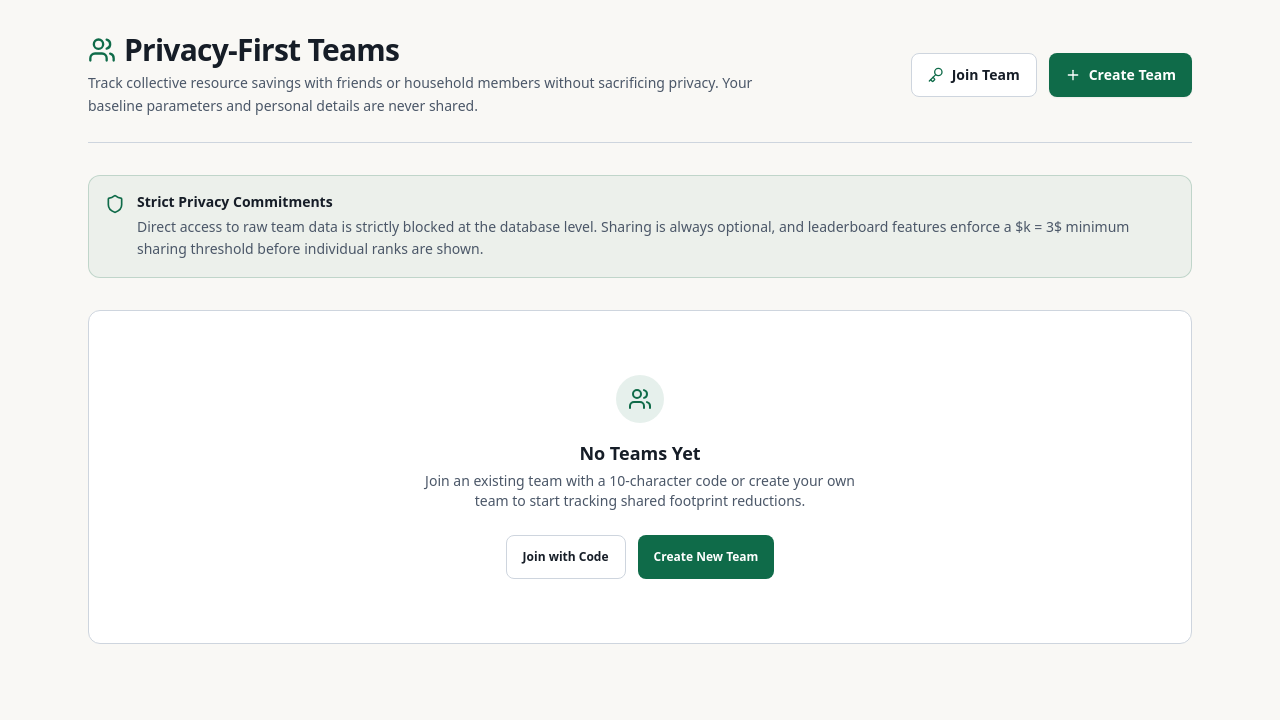
Test case: TeamsPage › opens create team modal when Create Team button clicked
Click the button "Create Team" at (1120, 75), box [1049,53,1192,97]
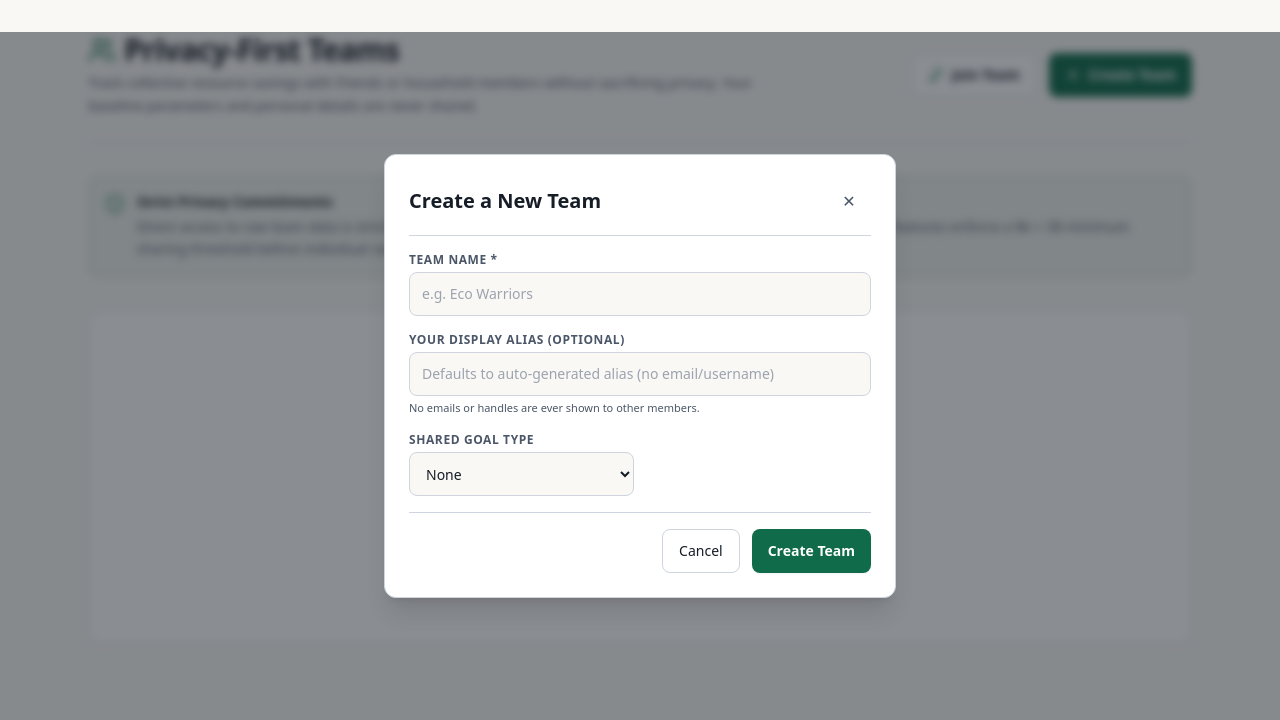
Expected: the heading "Create a New Team" is shown, [409,187,601,215]
Expected: the field labelled "Team Name *" is shown, [409,272,871,316]
